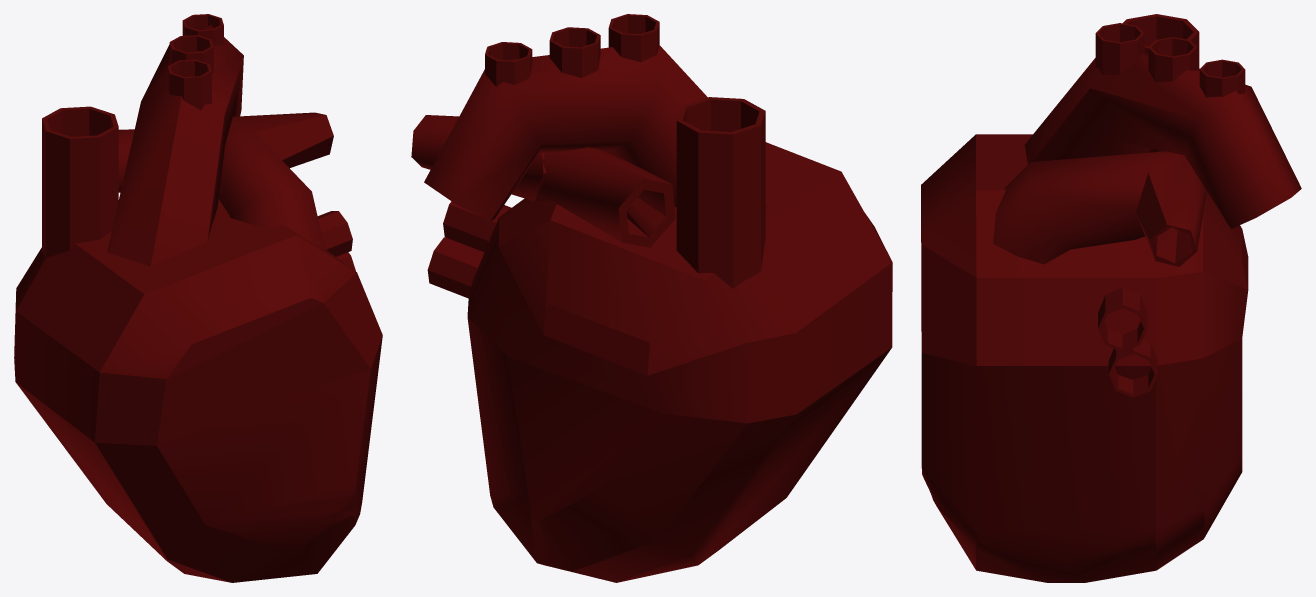
The model's file is Human Heart.fbx.
3 views of the same model, side by side, from view 1: azimuth 30°, elevation 25°; view 2: azimuth 150°, elevation 25°; view 3: azimuth 270°, elevation 25° (orthographic). The views are drawn at different scales.
Parts seen in each view (by area): view 1: Cube, Sweep, Sweep_3, Cylinder, Cylinder_2, Cylinder_7, Cylinder_11, Cylinder_5, Sweep_2, Cylinder_3, Cylinder_8, Cylinder_6; view 2: Cube, Sweep, Cylinder, Sweep_2, Sweep_3, Cylinder_9, Cylinder_2, Cylinder_11, Cylinder_5, Cap_2_3, Cylinder_7, Sweep_1_2 (+3 smaller); view 3: Cube, Sweep, Sweep_3, Cylinder_7, Cylinder_5, Cylinder_11, Cylinder_2, Cylinder_3, Sweep_1_3, Cylinder_9, Cylinder_12, Cylinder_10 (+4 smaller).
Boxes of the visible parts, box(x1,y1,x2,y2) form: Cube: box(14, 199, 382, 582); Sweep: box(107, 25, 243, 266); Sweep_3: box(218, 112, 333, 251); Cylinder: box(42, 106, 118, 257); Cylinder_2: box(47, 108, 113, 136); Cylinder_7: box(167, 59, 211, 109); Cylinder_11: box(317, 211, 352, 256); Cylinder_5: box(169, 35, 213, 72); Sweep_2: box(118, 129, 134, 192); Cylinder_3: box(182, 14, 223, 45); Cylinder_8: box(171, 61, 208, 76); Cylinder_6: box(173, 36, 210, 52); Cube: box(467, 142, 892, 582); Sweep: box(424, 45, 781, 221); Cylinder: box(676, 97, 765, 288); Sweep_2: box(539, 147, 671, 241); Sweep_3: box(411, 115, 549, 201); Cylinder_9: box(427, 237, 484, 298); Cylinder_2: box(683, 99, 759, 131); Cylinder_11: box(443, 201, 511, 252); Cylinder_5: box(549, 27, 600, 77); Cap_2_3: box(618, 179, 675, 247); Cylinder_7: box(608, 14, 659, 61); Sweep_1_2: box(626, 190, 665, 237); Cube: box(921, 134, 1248, 582); Sweep: box(1024, 50, 1301, 228); Sweep_3: box(993, 151, 1206, 264); Cylinder_7: box(1095, 23, 1144, 75); Cylinder_5: box(1148, 37, 1197, 82); Cylinder_11: box(1098, 287, 1147, 351); Cylinder_2: box(1127, 16, 1193, 46); Cylinder_3: box(1199, 59, 1245, 97); Sweep_1_3: box(1154, 227, 1191, 263); Cylinder_9: box(1108, 339, 1157, 397); Cylinder_12: box(1101, 321, 1143, 348); Cylinder_10: box(1112, 368, 1154, 394).
Size of the model in its own units: 11.61 by 16.15 by 11.03.
